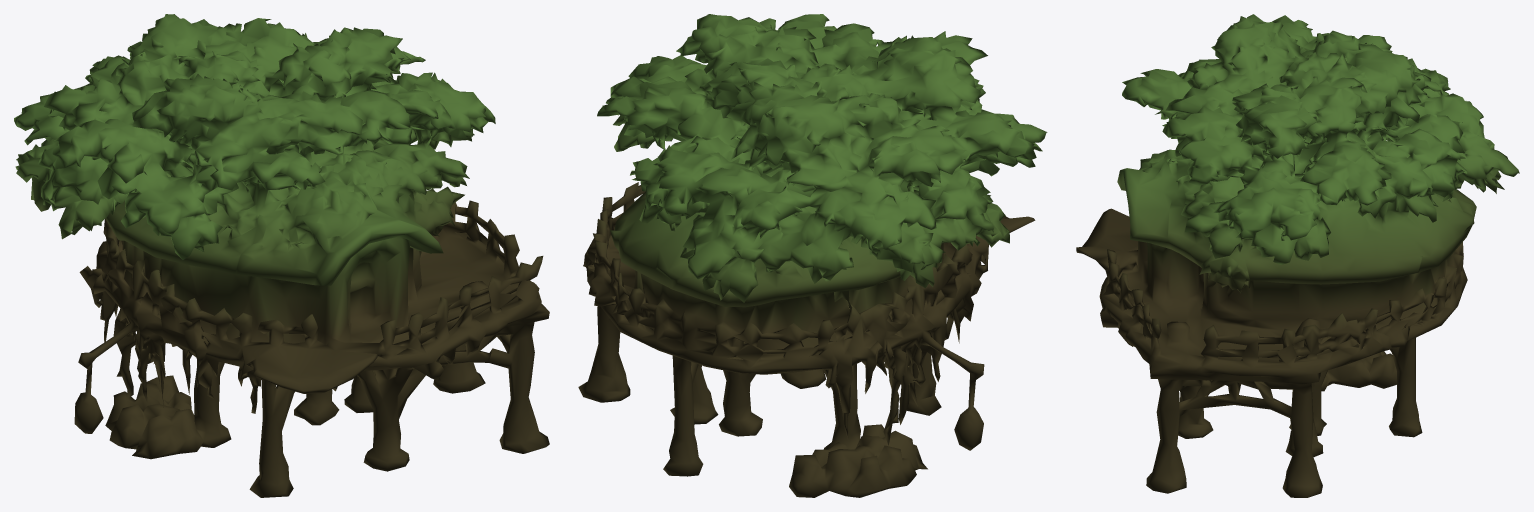
File: canopy-treehouse.glb
3 renders of one model, left to right at view 1: azimuth 30°, elevation 25°; view 2: azimuth 150°, elevation 25°; view 3: azimuth 270°, elevation 25°, orthographic. The views are drawn at different scales.
Visible parts, largest first — view 1: canopy-treehouse; view 2: canopy-treehouse; view 3: canopy-treehouse.
Boxes of the visible parts, x1,y1,x2,y2 form: canopy-treehouse: [14, 14, 549, 497]; canopy-treehouse: [578, 14, 1047, 497]; canopy-treehouse: [1076, 14, 1519, 497].
Bounding box in the file's own units: 0.0316 × 0.0271 × 0.0317.
